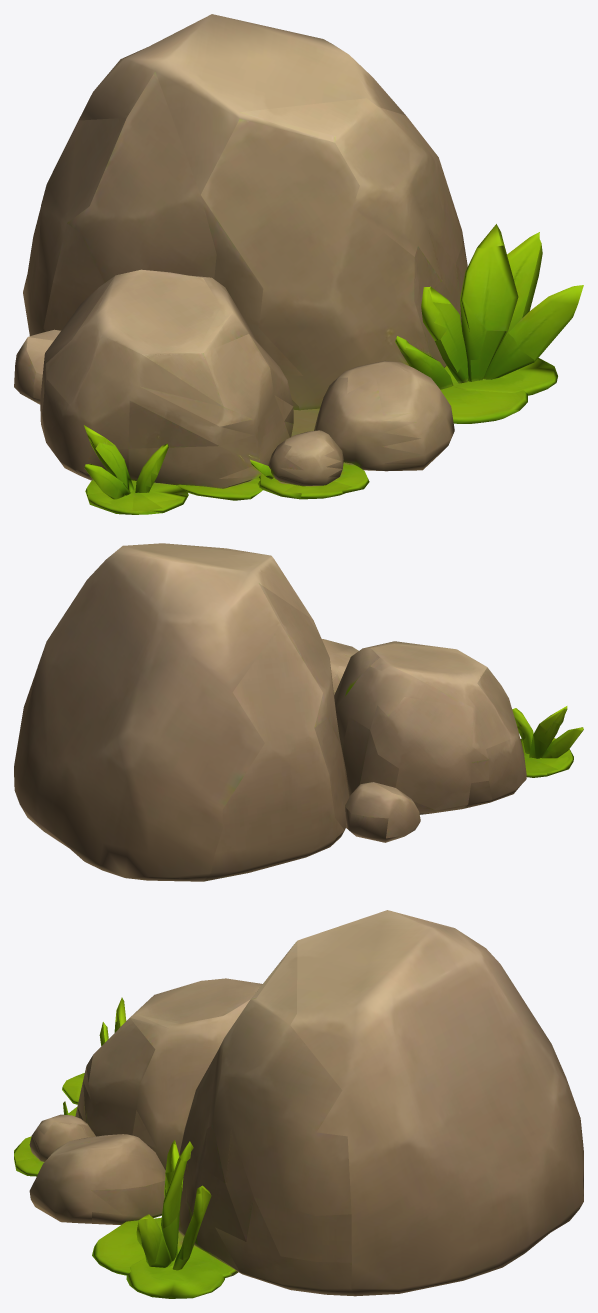
The model's file is rock-cluster.glb.
The picture shows the model from 3 angles, top to bottom: view 1: azimuth 30°, elevation 25°; view 2: azimuth 150°, elevation 25°; view 3: azimuth 270°, elevation 25°; orthographic projection. The views are drawn at different scales.
Size of the model in its own units: 0.9785 by 0.5605 by 1.
1 material, 1 textured.
